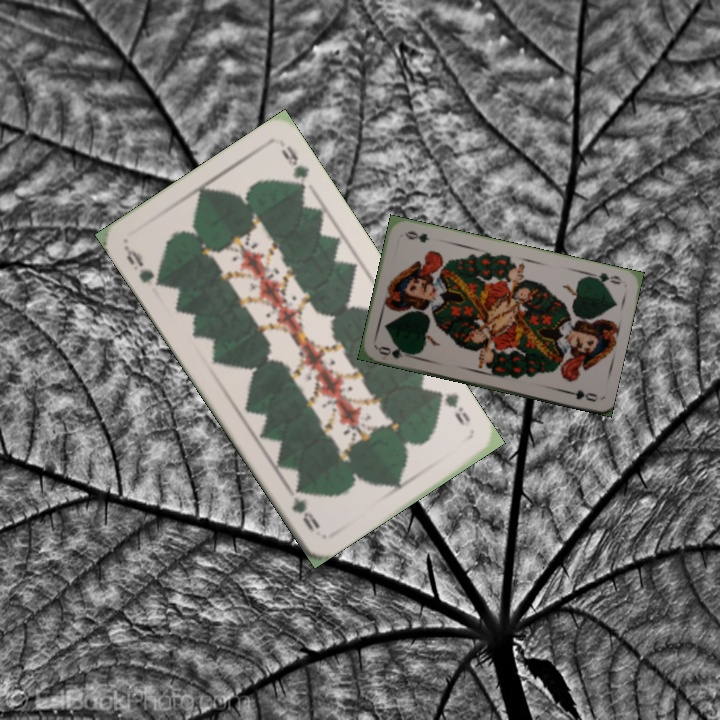G9: (120, 243, 167, 290), (430, 386, 473, 429)
GO: (375, 342, 415, 362), (585, 268, 625, 287)
